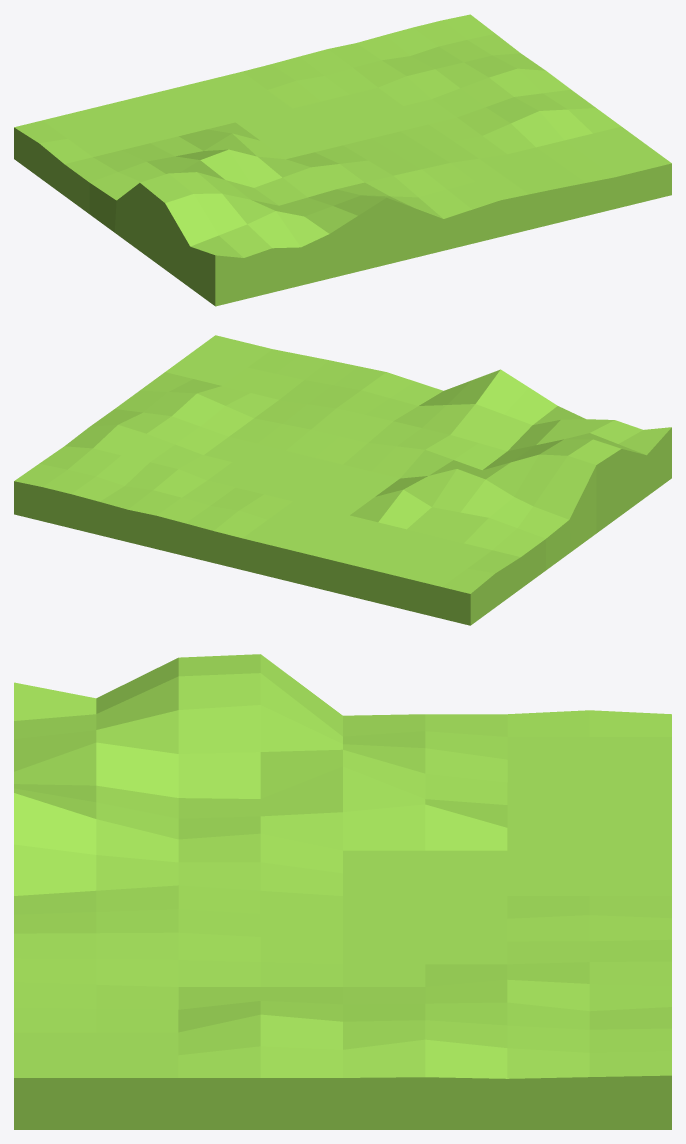
The picture shows the model from 3 angles, top to bottom: view 1: azimuth 30°, elevation 25°; view 2: azimuth 150°, elevation 25°; view 3: azimuth 270°, elevation 25°; orthographic projection. The views are drawn at different scales.
Parts seen in each view (by area): view 1: 1/1; view 2: 1/1; view 3: 1/1.
Part boxes in pixels (x1,y1,x2,y2): 1/1: (14, 14, 671, 306); 1/1: (14, 335, 671, 625); 1/1: (14, 654, 671, 1129).
Size of the model in its own units: 5338 by 791 by 4080.
